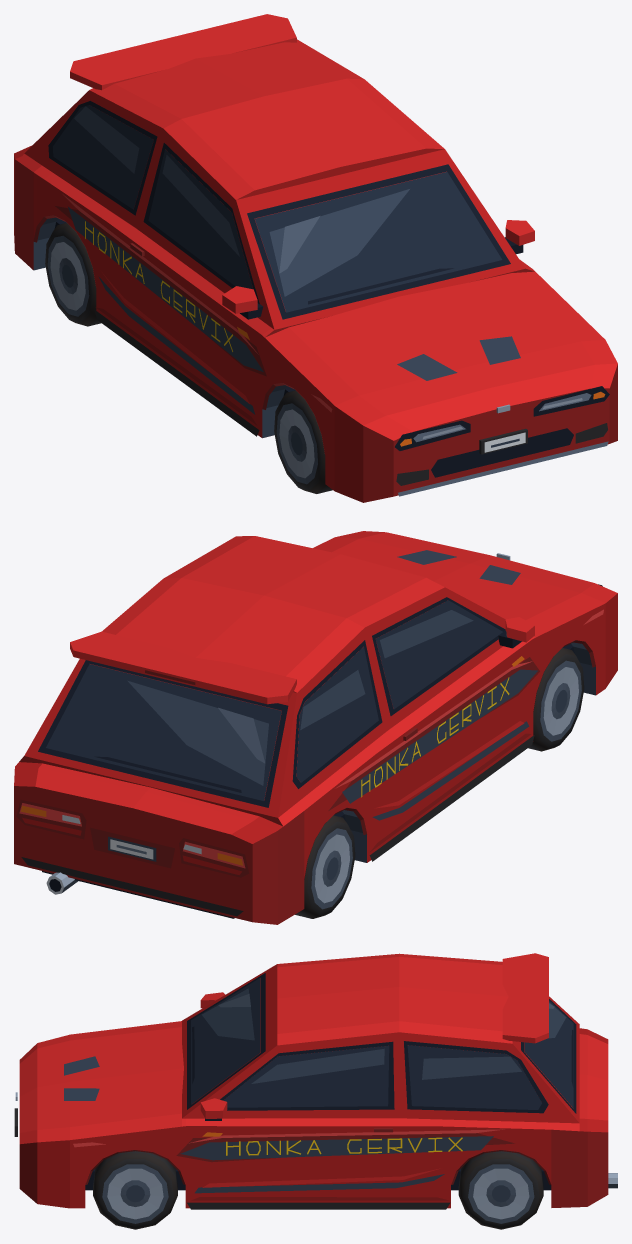
Rendered from sedan-red.glb.
3 renders of one model, top to bottom at view 1: azimuth 30°, elevation 25°; view 2: azimuth 150°, elevation 25°; view 3: azimuth 270°, elevation 25°, orthographic. The views are drawn at different scales.
Parts seen in each view (by area): view 1: Honka Cervix - Red Hatchback; view 2: Honka Cervix - Red Hatchback; view 3: Honka Cervix - Red Hatchback.
Boxes of the visible parts, bbox=[...] form: Honka Cervix - Red Hatchback: bbox=[14, 14, 617, 502]; Honka Cervix - Red Hatchback: bbox=[14, 531, 617, 924]; Honka Cervix - Red Hatchback: bbox=[14, 953, 617, 1229].
Size of the model in its own units: 1.89 by 1.44 by 4.06.
Materials: 1 (1 with a texture image).
